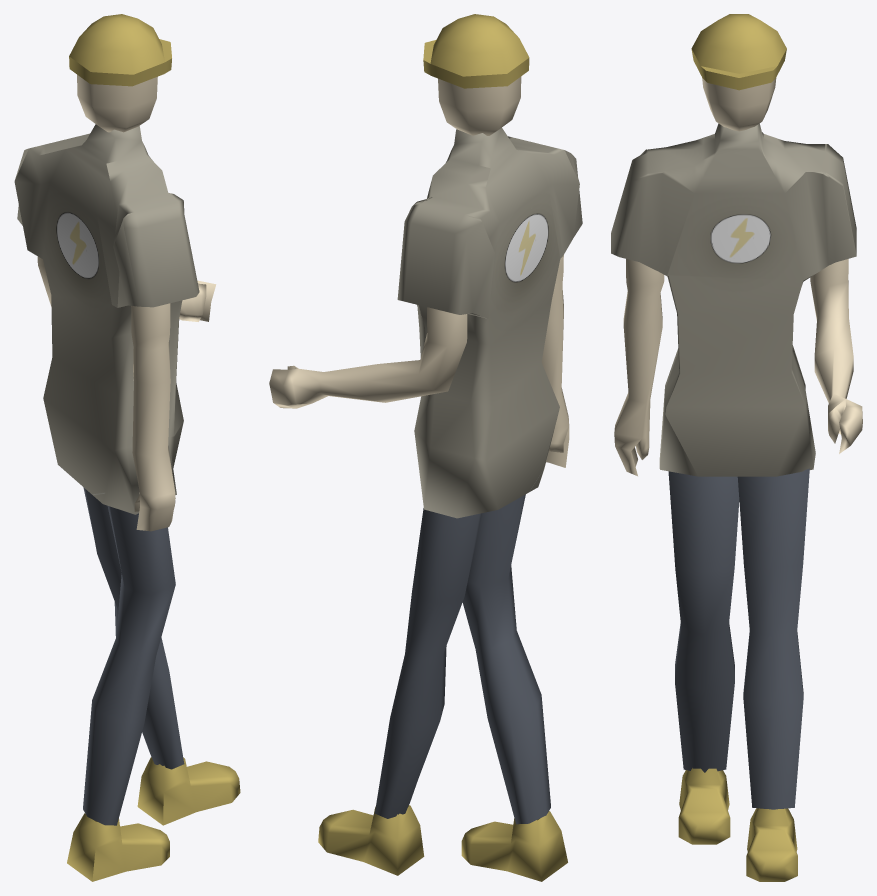
Rendered from Player.fbx.
3 views of the same model, side by side, from view 1: azimuth 30°, elevation 25°; view 2: azimuth 150°, elevation 25°; view 3: azimuth 270°, elevation 25° (orthographic). The views are drawn at different scales.
Visible parts, largest first — view 1: Player; view 2: Player; view 3: Player.
Boxes of the visible parts, box(x1,y1,x2,y2) form: Player: box(14, 14, 240, 881); Player: box(269, 14, 582, 881); Player: box(611, 14, 862, 881).
Size of the model in its own units: 49.12 by 186 by 52.22.
1 material, 1 textured.
